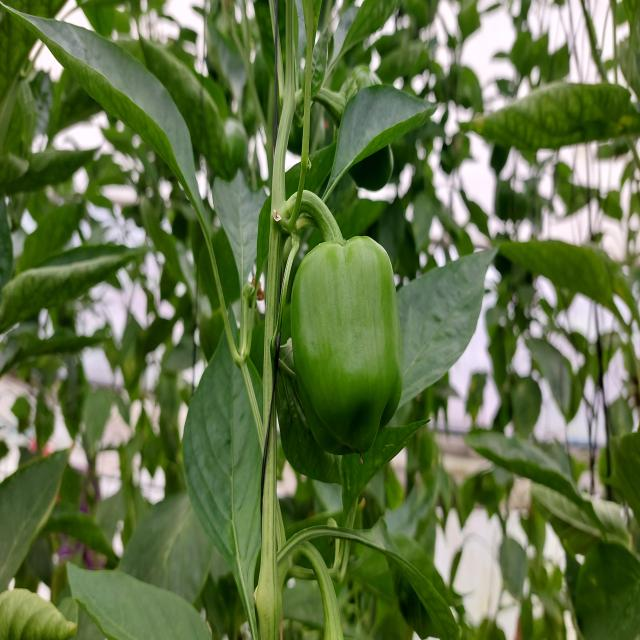Green--Not-ready-to-harvest: (289, 235, 404, 457)
